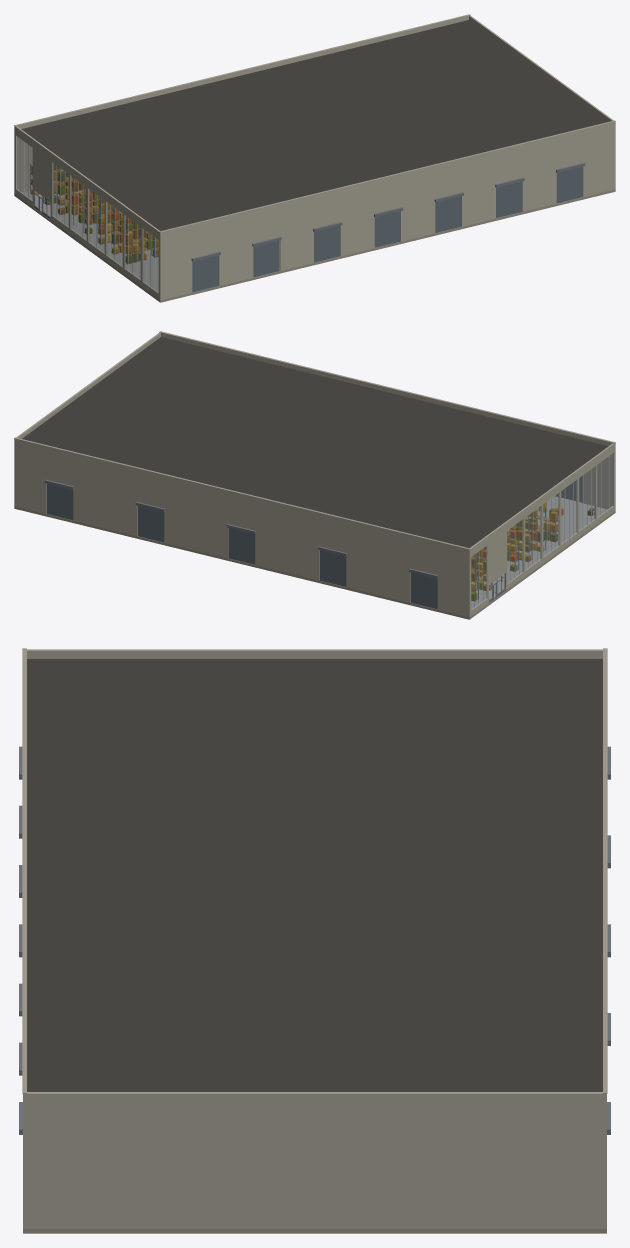
The model's file is warehouse.glb.
3 renders of one model, top to bottom at view 1: azimuth 30°, elevation 25°; view 2: azimuth 150°, elevation 25°; view 3: azimuth 270°, elevation 25°, orthographic. The views are drawn at different scales.
Parts seen in each view (by area): view 1: LOD0, FURN; view 2: LOD0, FURN; view 3: LOD0.
Boxes of the visible parts, x1,y1,x2,y2 form: LOD0: [14, 14, 615, 302]; FURN: [30, 163, 158, 264]; LOD0: [14, 331, 615, 619]; FURN: [471, 502, 594, 601]; LOD0: [19, 648, 610, 1233].
Size of what is drawn, in the model's own units: 90.1 by 13.33 by 50.7.
